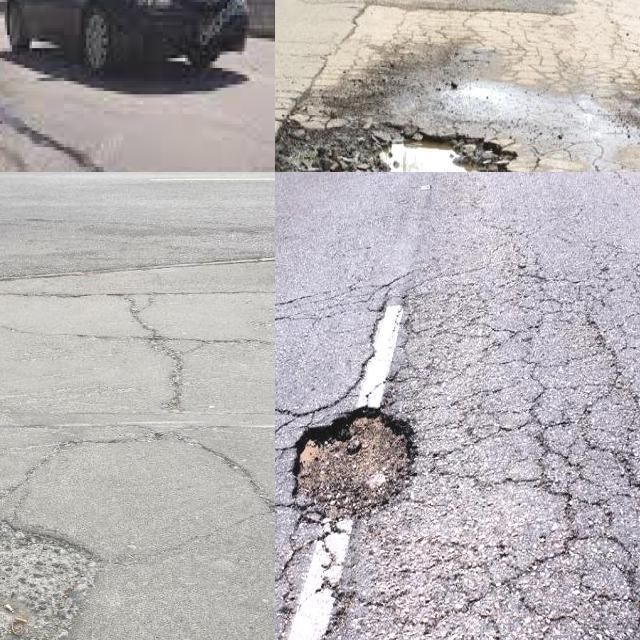Pothole: (293, 406, 417, 521), (275, 118, 517, 172), (0, 521, 103, 640)
